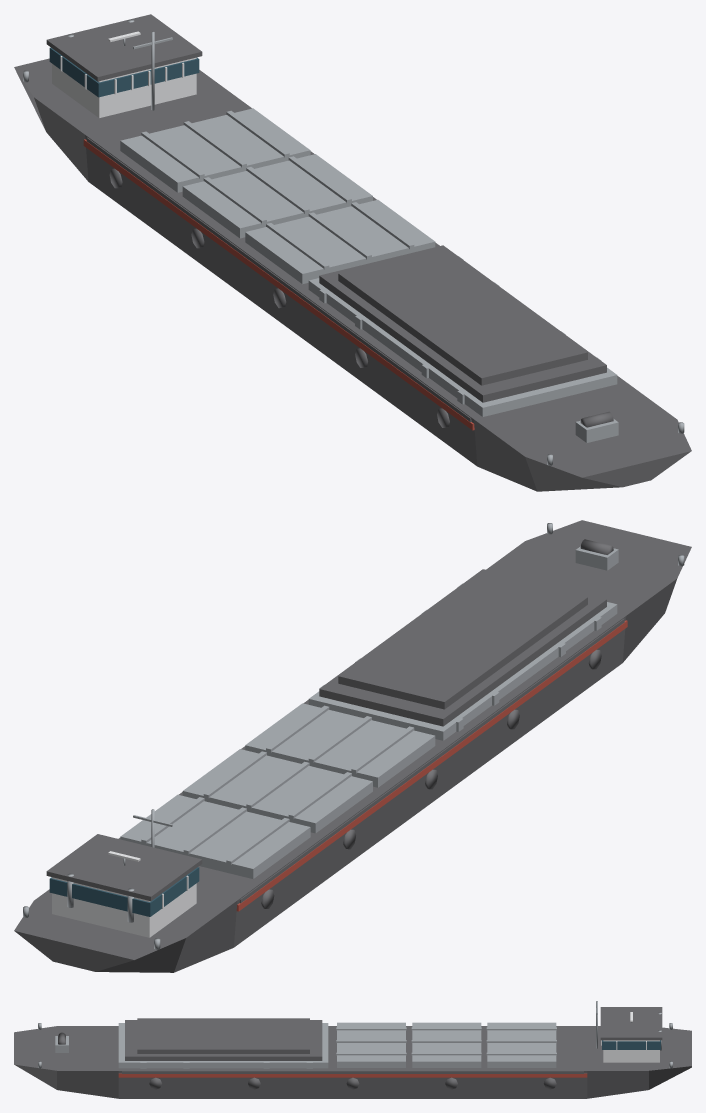
Rendered from barge.glb.
3 renders of one model, top to bottom at view 1: azimuth 30°, elevation 25°; view 2: azimuth 150°, elevation 25°; view 3: azimuth 270°, elevation 25°, orthographic. The views are drawn at different scales.
Visible parts, largest first — view 1: Merged_RoofDark, Merged_PropsMetal, Merged_CityWhitePaint, barge_stripe0315, barge_wh_glass0315; view 2: Merged_RoofDark, Merged_PropsMetal, Merged_CityWhitePaint, barge_stripe0315, barge_wh_glass0315; view 3: Merged_RoofDark, Merged_PropsMetal, barge_stripe0315, Merged_CityWhitePaint, barge_wh_glass0315.
Boxes of the visible parts, x1=… form: Merged_RoofDark: x1=14, y1=14, x2=691, y2=491; Merged_PropsMetal: x1=23, y1=19, x2=684, y2=465; Merged_CityWhitePaint: x1=52, y1=31, x2=196, y2=118; barge_stripe0315: x1=83, y1=139, x2=474, y2=430; barge_wh_glass0315: x1=49, y1=47, x2=199, y2=97; Merged_RoofDark: x1=14, y1=520, x2=691, y2=972; Merged_PropsMetal: x1=23, y1=523, x2=684, y2=949; Merged_CityWhitePaint: x1=52, y1=851, x2=196, y2=937; barge_stripe0315: x1=236, y1=620, x2=627, y2=911; barge_wh_glass0315: x1=49, y1=867, x2=199, y2=916; Merged_RoofDark: x1=14, y1=1007, x2=691, y2=1098; Merged_PropsMetal: x1=38, y1=1001, x2=672, y2=1068; barge_stripe0315: x1=118, y1=1073, x2=587, y2=1077; Merged_CityWhitePaint: x1=601, y1=1012, x2=659, y2=1062; barge_wh_glass0315: x1=602, y1=1040, x2=660, y2=1049.
Bounding box in the file's own units: 8.74 × 6.8 × 55.
